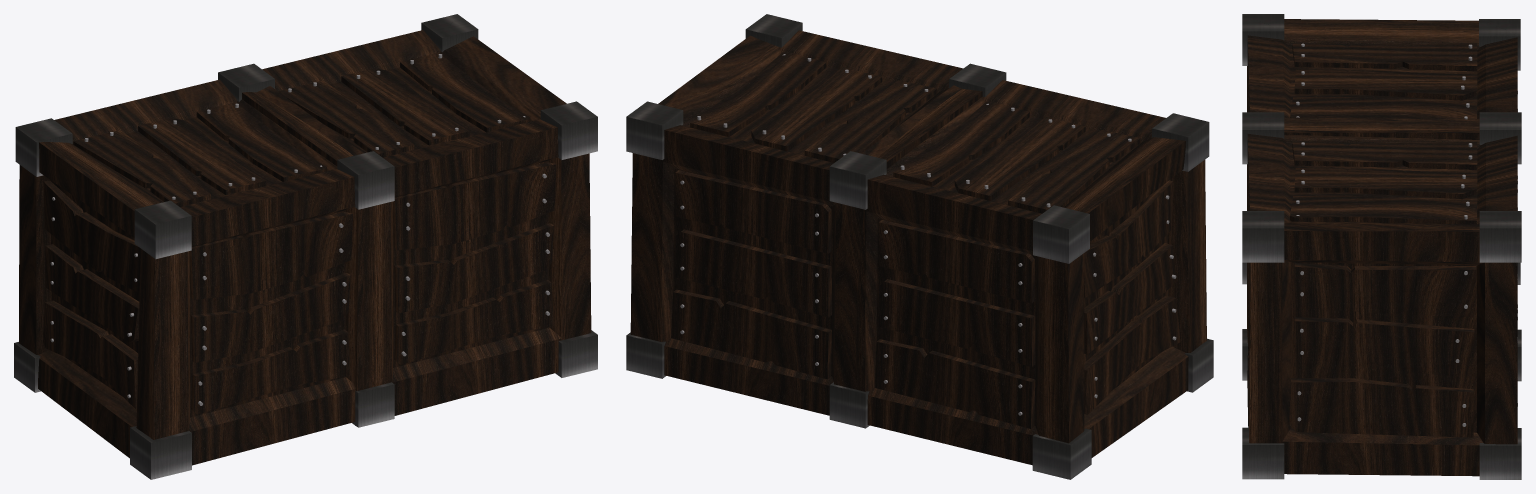
Rendered from CajaDoble2.glb.
3 views of the same model, side by side, from view 1: azimuth 30°, elevation 25°; view 2: azimuth 150°, elevation 25°; view 3: azimuth 270°, elevation 25° (orthographic).
Parts seen in each view (by area): view 1: Cubo.018, Cubo, Cubo.016, Cubo.011, Cubo.015, Cubo.004, Cubo.017, Cubo.007, Cubo.012, Cubo.005, Cubo.014, Cubo.010; view 2: Cubo.018, Cubo, Cubo.017, Cubo.005, Cubo.014, Cubo.010, Cubo.016, Cubo.013, Cubo.006, Cubo.004, Cubo.015, Cubo.011; view 3: Cubo, Cubo.018, Cubo.004, Cubo.005, Cubo.007, Cubo.006, Cubo.014, Cubo.015, Cubo.016, Cubo.017, Cubo.012.
Part boxes in pixels (x1,y1,x2,y2): Cubo.018: (19, 79, 363, 465); Cubo: (242, 30, 591, 425); Cubo.016: (134, 200, 191, 259); Cubo.011: (130, 426, 191, 479); Cubo.015: (337, 151, 394, 209); Cubo.004: (540, 101, 597, 159); Cubo.017: (15, 118, 72, 176); Cubo.007: (555, 330, 597, 377); Cubo.012: (352, 382, 394, 427); Cubo.005: (421, 14, 478, 52); Cubo.014: (218, 63, 274, 101); Cubo.010: (14, 342, 40, 392); Cubo.018: (834, 80, 1206, 465); Cubo: (630, 30, 982, 415); Cubo.017: (1033, 205, 1089, 263); Cubo.005: (626, 101, 683, 159); Cubo.014: (829, 151, 886, 209); Cubo.010: (1032, 428, 1091, 479); Cubo.016: (1152, 113, 1209, 171); Cubo.013: (829, 382, 869, 428); Cubo.006: (626, 332, 665, 378); Cubo.004: (745, 14, 802, 47); Cubo.015: (949, 63, 1006, 96); Cubo.011: (1184, 338, 1213, 392); Cubo: (1247, 117, 1517, 476); Cubo.018: (1247, 19, 1517, 139); Cubo.004: (1242, 211, 1284, 262); Cubo.005: (1479, 211, 1521, 262); Cubo.007: (1242, 427, 1284, 479); Cubo.006: (1479, 428, 1521, 479); Cubo.014: (1479, 112, 1521, 164); Cubo.015: (1242, 112, 1284, 164); Cubo.016: (1242, 14, 1284, 65); Cubo.017: (1479, 19, 1520, 70); Cubo.012: (1242, 329, 1247, 380).
Bounding box in the file's own units: 3.86 × 2.11 × 2.1.
Materials: 158 (14 with a texture image).
